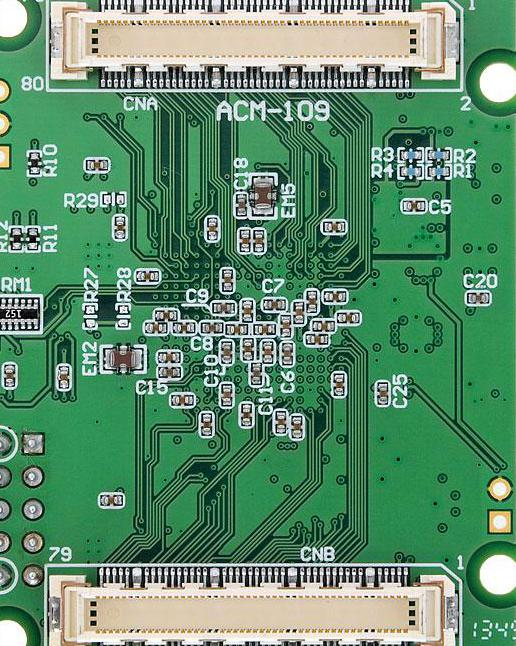Capacitor: (238, 402, 254, 428), (198, 409, 213, 436), (233, 192, 249, 217), (84, 156, 110, 171), (320, 218, 346, 233), (204, 216, 219, 242), (334, 309, 360, 324), (219, 266, 233, 293), (142, 320, 169, 334), (303, 332, 330, 346), (210, 300, 235, 315), (239, 297, 254, 322), (199, 319, 224, 334), (169, 392, 194, 407), (98, 492, 123, 507), (463, 290, 489, 304), (304, 288, 318, 314), (261, 297, 287, 311), (219, 338, 233, 364), (56, 364, 70, 390), (292, 299, 305, 326), (400, 198, 425, 212), (251, 228, 265, 253), (249, 360, 263, 385), (289, 413, 303, 438), (323, 288, 346, 303), (261, 340, 274, 366), (311, 318, 335, 332), (225, 322, 249, 336), (281, 341, 295, 365), (331, 372, 345, 396), (219, 383, 233, 407), (112, 214, 125, 239), (135, 268, 160, 281), (153, 308, 179, 320), (241, 338, 254, 362), (157, 365, 181, 378), (375, 380, 388, 404), (172, 320, 194, 334), (280, 313, 292, 338), (156, 350, 181, 362), (273, 408, 285, 433), (252, 322, 275, 335), (3, 363, 15, 387), (238, 228, 249, 253)
Connector: (47, 0, 464, 89), (45, 563, 461, 645), (482, 465, 515, 541), (0, 71, 16, 175)
EM: (101, 346, 144, 373), (252, 178, 274, 220)
Pads: (98, 190, 128, 207), (81, 301, 97, 329), (114, 302, 130, 329)
Pins: (0, 420, 47, 599)
Resistor Jumper: (0, 292, 42, 333)
Resistor Network: (397, 163, 425, 177), (26, 152, 42, 176), (398, 147, 425, 161), (425, 164, 452, 178), (426, 147, 452, 161), (9, 225, 22, 252), (27, 226, 39, 250)
